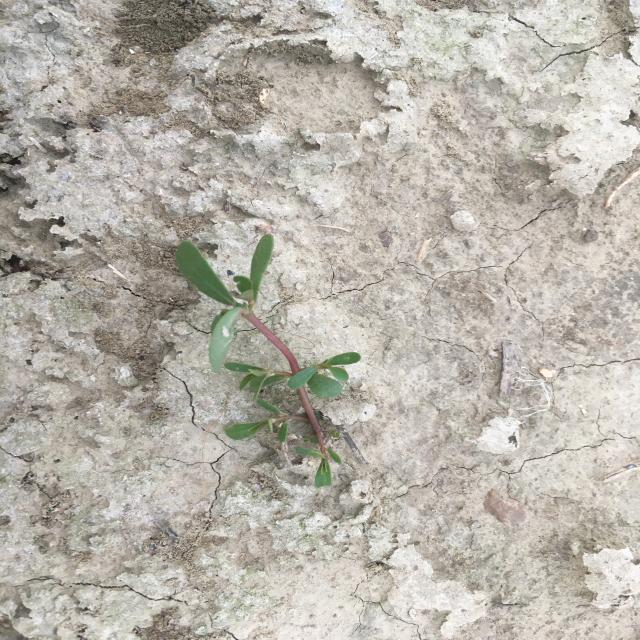Purslane: (175, 232, 362, 490)
